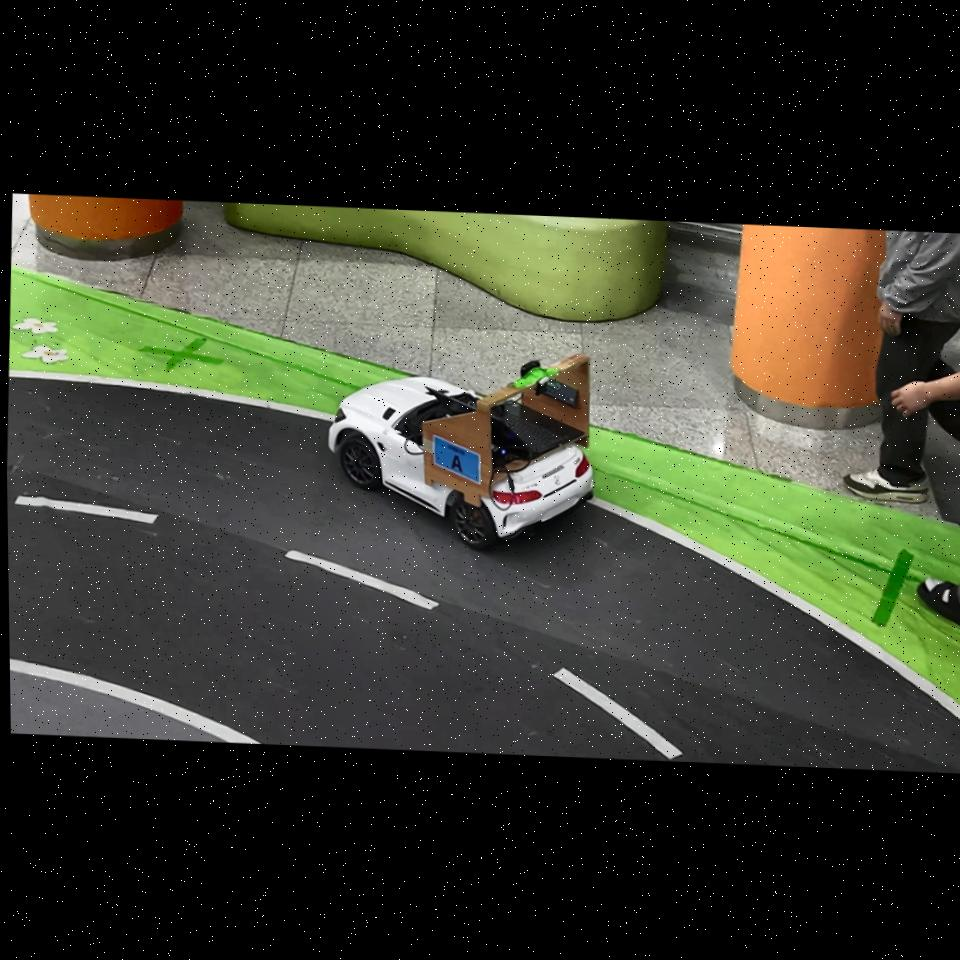broken_line: (553, 668, 683, 760), (285, 550, 439, 610), (14, 495, 159, 524)
